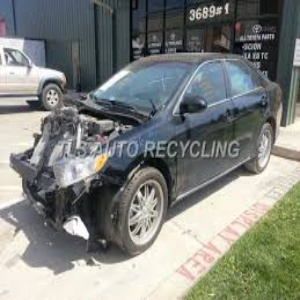bumper: (15, 178, 92, 239)
head_lights: (49, 153, 109, 186)
